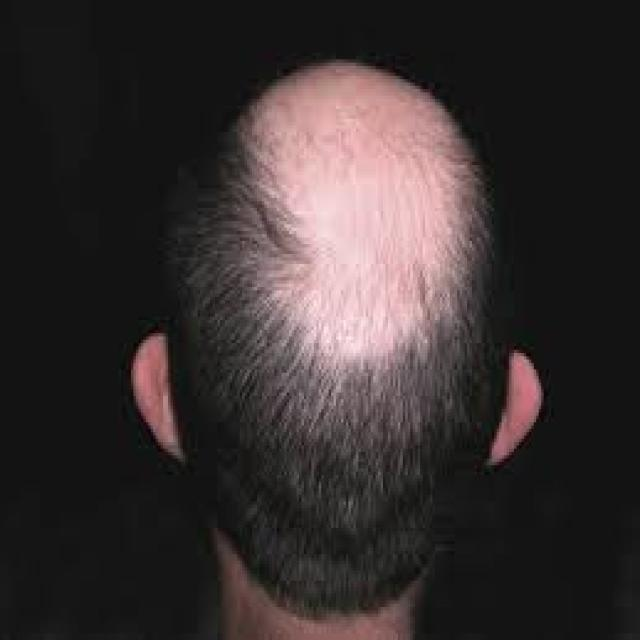Non_Helmet: (122, 35, 563, 569)
